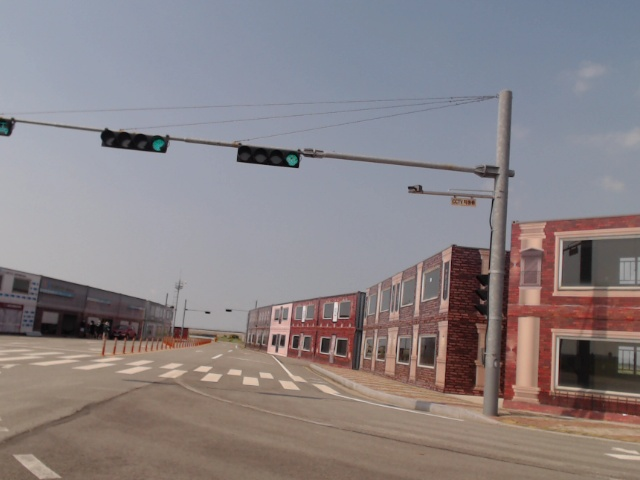straight_green_4: (98, 129, 169, 153), (238, 145, 300, 169)
